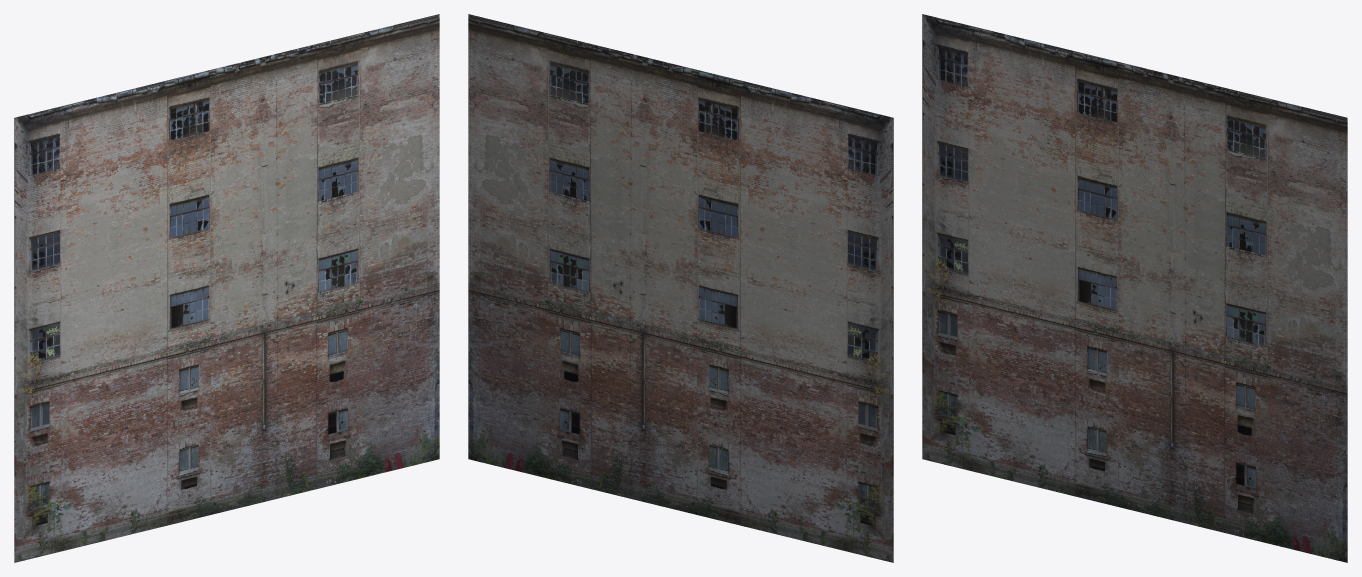
The model's file is fachada2.obj.
The picture shows the model from 3 angles, left to right: view 1: azimuth 30°, elevation 25°; view 2: azimuth 150°, elevation 25°; view 3: azimuth 330°, elevation 25°; orthographic projection.
Parts seen in each view (by area): view 1: Plane.001; view 2: Plane.001; view 3: Plane.001.
Part boxes in pixels (x1,y1,x2,y2): Plane.001: [14, 14, 439, 562]; Plane.001: [468, 14, 893, 562]; Plane.001: [922, 14, 1347, 562].
Bounding box in the file's own units: 100 × 100 × 3.05e-05.
